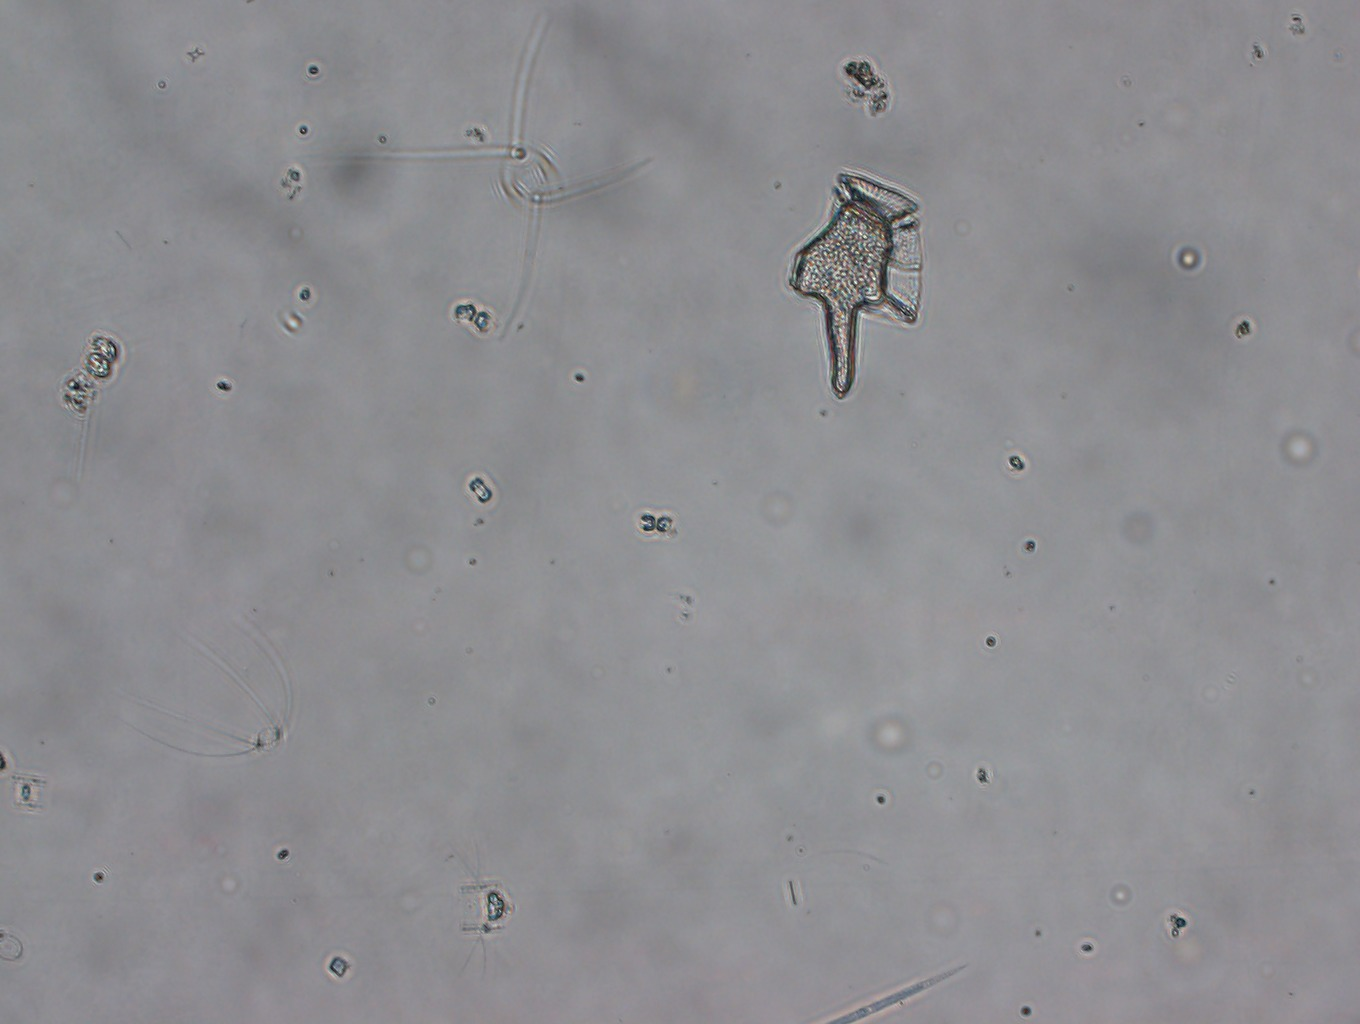chaetoceros: (352, 16, 664, 346), (110, 618, 295, 762), (441, 824, 518, 997)
dinophysis caudata: (787, 170, 924, 402)
skeletonema: (59, 330, 125, 418)
